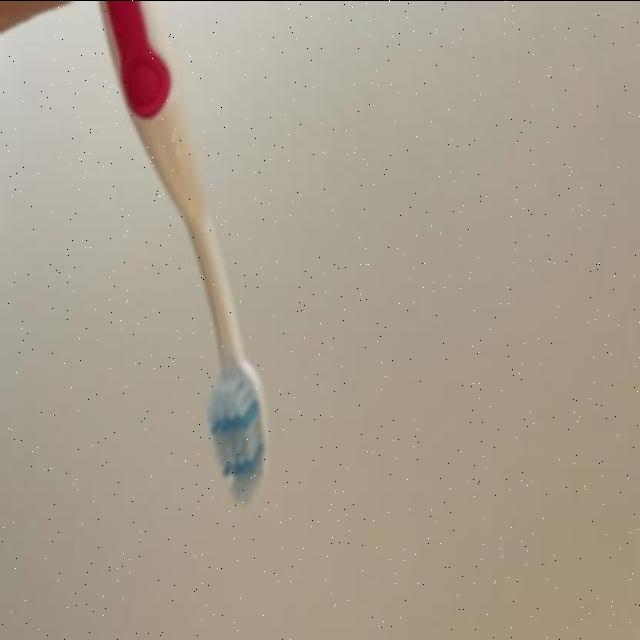toothbrush: (92, 0, 284, 516)
